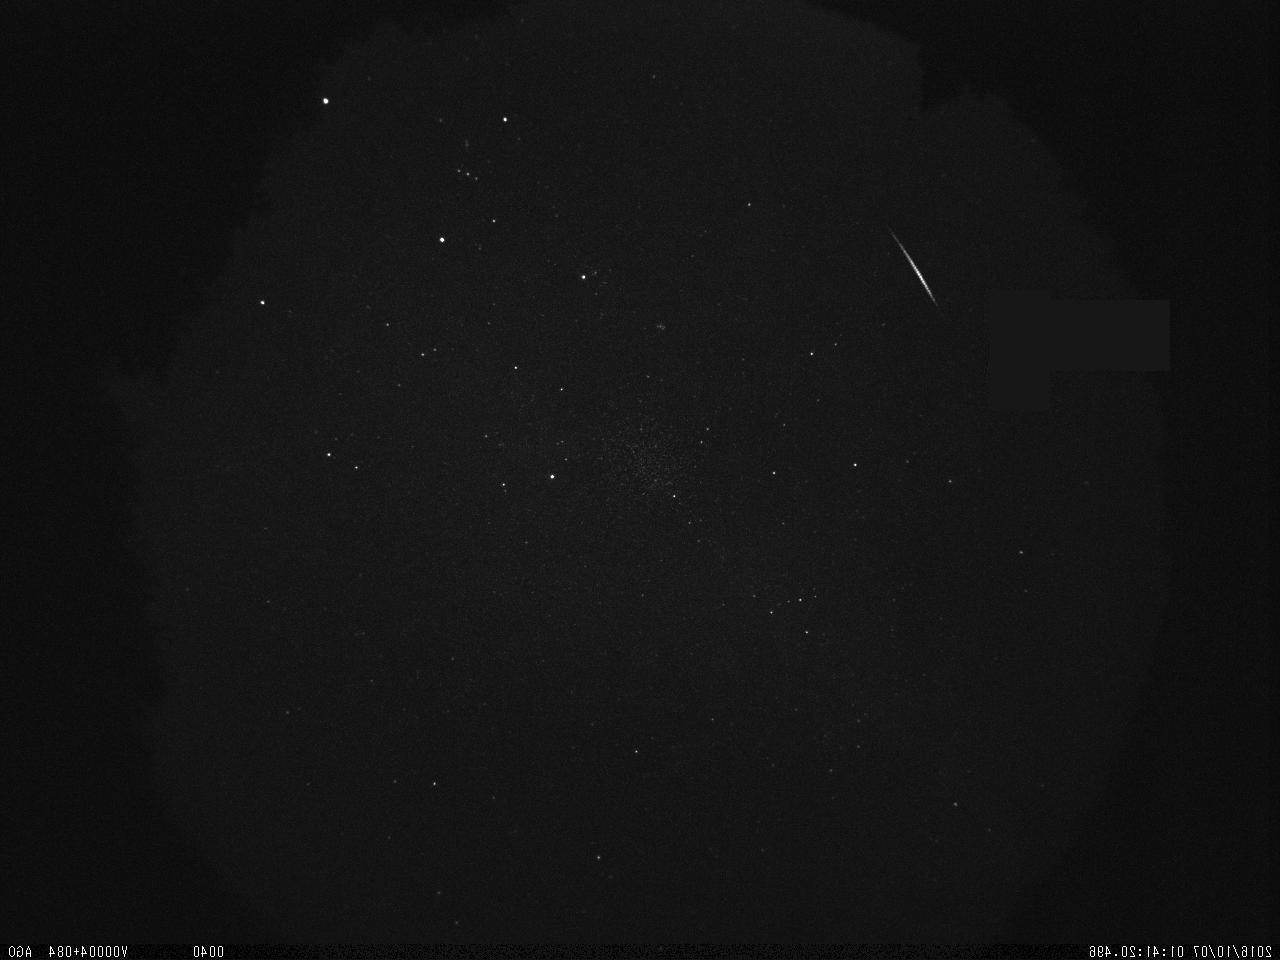meteor: (837, 206, 976, 323)
